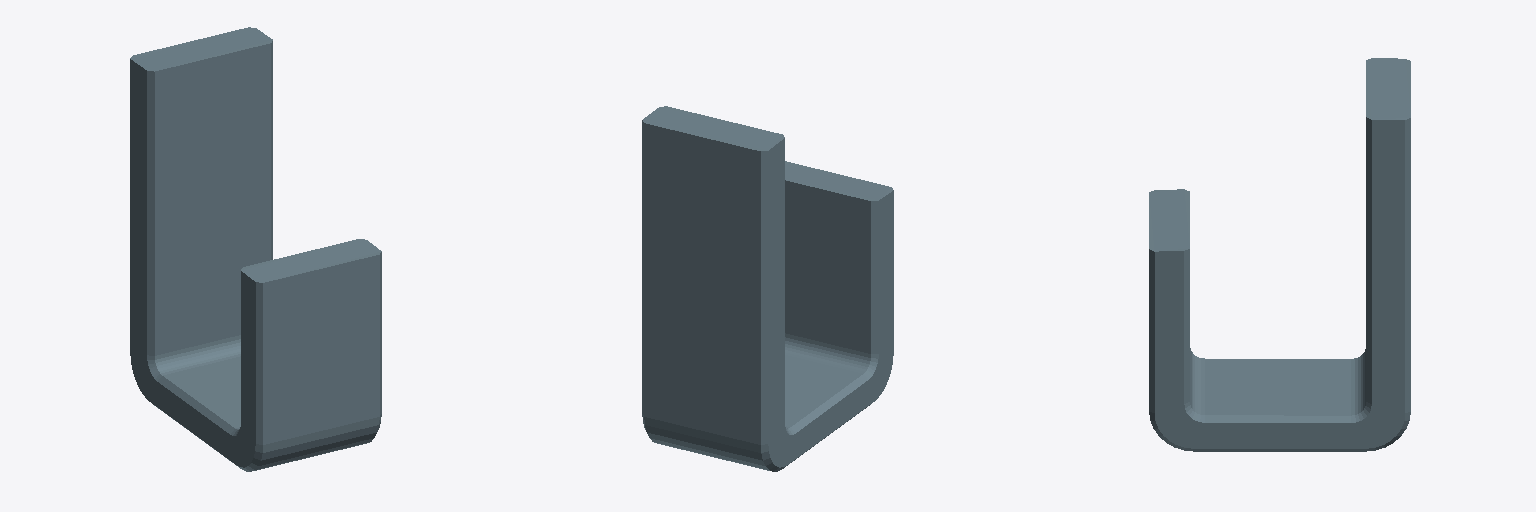
Rendered from Bent.obj.
3 renders of one model, left to right at view 1: azimuth 30°, elevation 25°; view 2: azimuth 150°, elevation 25°; view 3: azimuth 270°, elevation 25°, orthographic.
Visible parts, largest first — view 1: Object207; view 2: Object207; view 3: Object207.
Boxes of the visible parts, x1=… form: Object207: x1=130, y1=27, x2=381, y2=471; Object207: x1=642, y1=106, x2=893, y2=471; Object207: x1=1149, y1=58, x2=1410, y2=451.
Bounding box in the file's own units: 3.42 × 8.65 × 6.14.